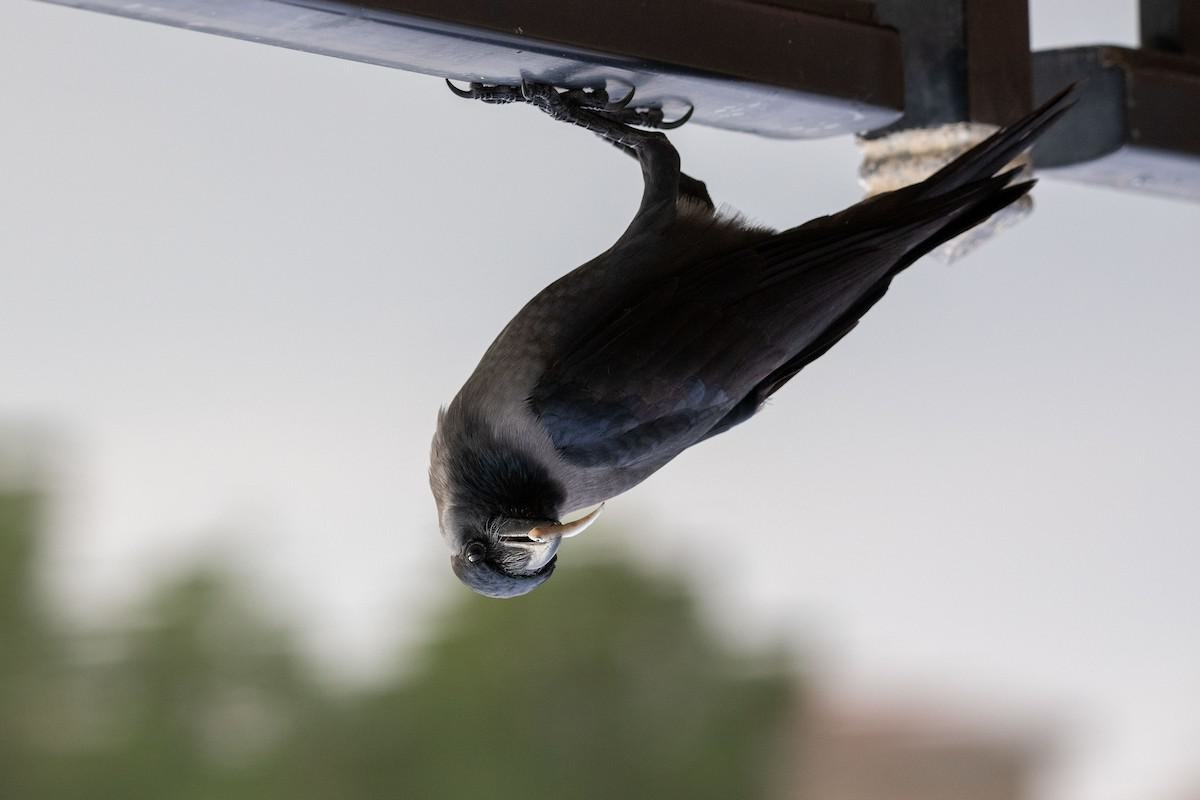crow: (415, 30, 1109, 611)
